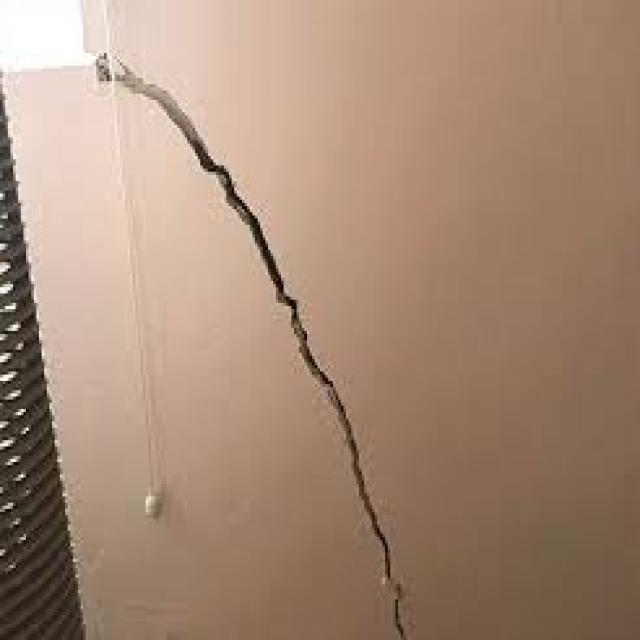Crack: (94, 50, 406, 637)
